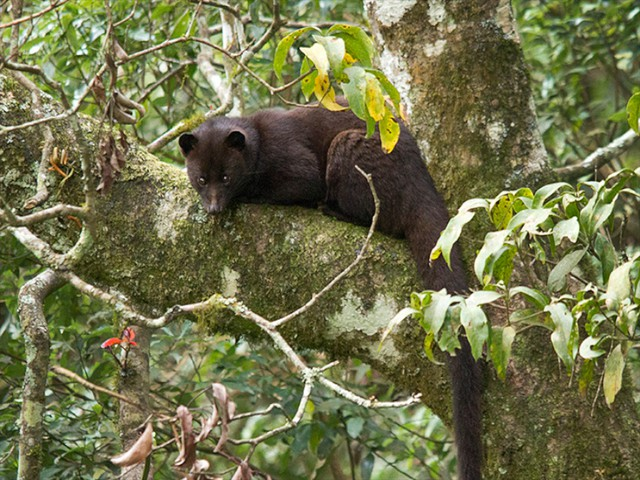civet: (175, 96, 481, 307)
